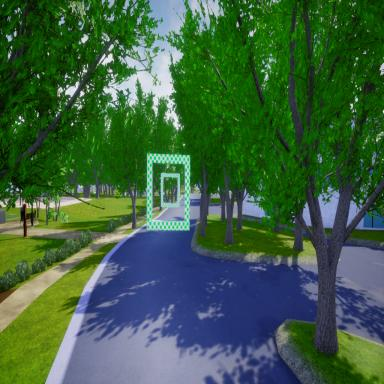gate: (146, 152, 190, 233), (160, 172, 180, 208)
